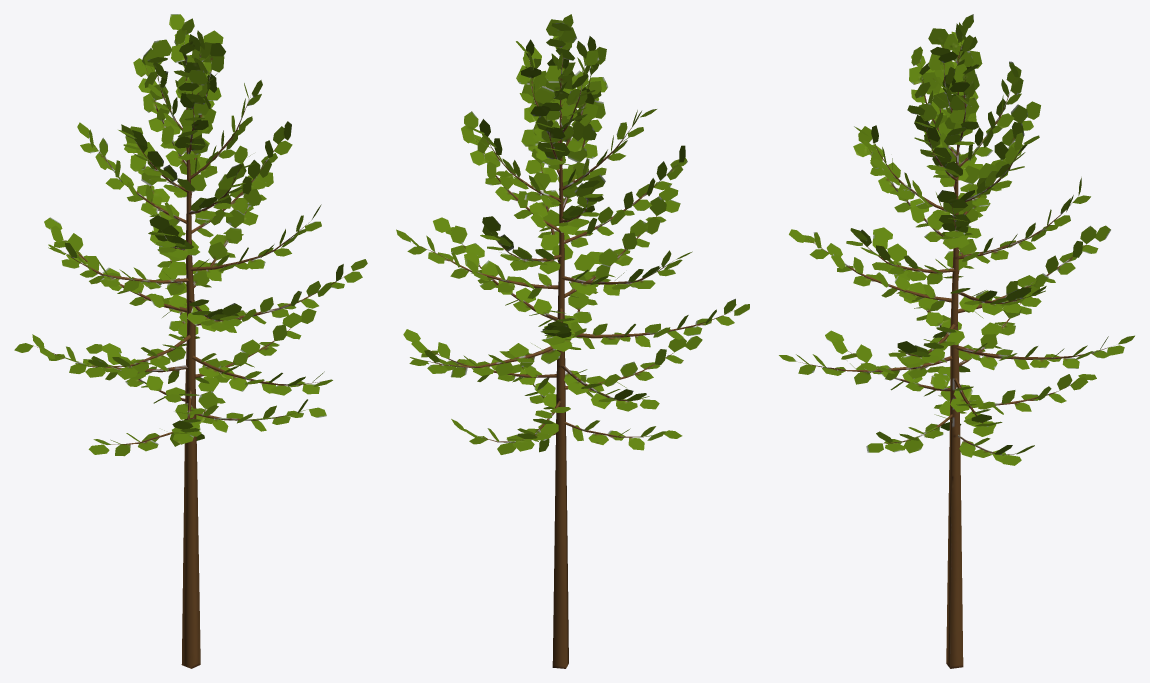
The model's file is tree1_LOD0.fbx.
3 renders of one model, left to right at view 1: azimuth 30°, elevation 25°; view 2: azimuth 150°, elevation 25°; view 3: azimuth 270°, elevation 25°, orthographic.
Visible parts, largest first — view 1: tree1_LOD0; view 2: tree1_LOD0; view 3: tree1_LOD0.
Part boxes in pixels (x1,y1,x2,y2): tree1_LOD0: (14,14,367,668); tree1_LOD0: (396,14,749,668); tree1_LOD0: (779,14,1134,668).
Size of the model in its own units: 866 by 1769 by 886.
